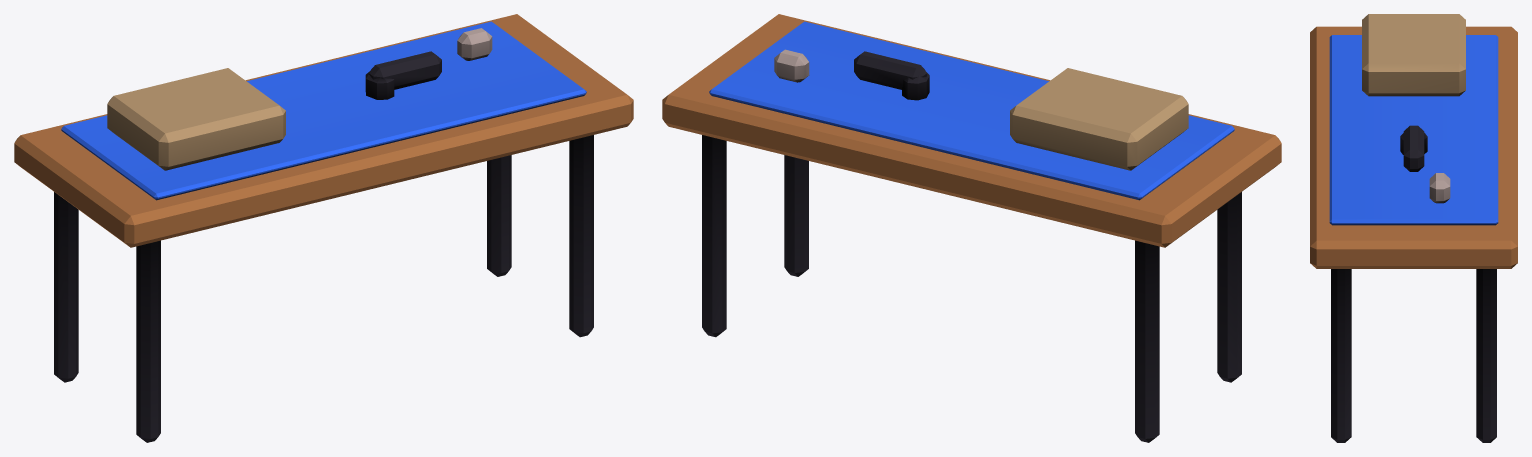
The model's file is prop.armory-table.glb.
The picture shows the model from 3 angles, left to right: view 1: azimuth 30°, elevation 25°; view 2: azimuth 150°, elevation 25°; view 3: azimuth 270°, elevation 25°; orthographic projection. The views are drawn at different scales.
Visible parts, largest first — view 1: body; view 2: body; view 3: body.
Part boxes in pixels (x1,y1,x2,y2): body: (14, 14, 633, 442); body: (662, 14, 1281, 442); body: (1310, 14, 1517, 442).
Size of the model in its own units: 2 by 1.08 by 0.8.
